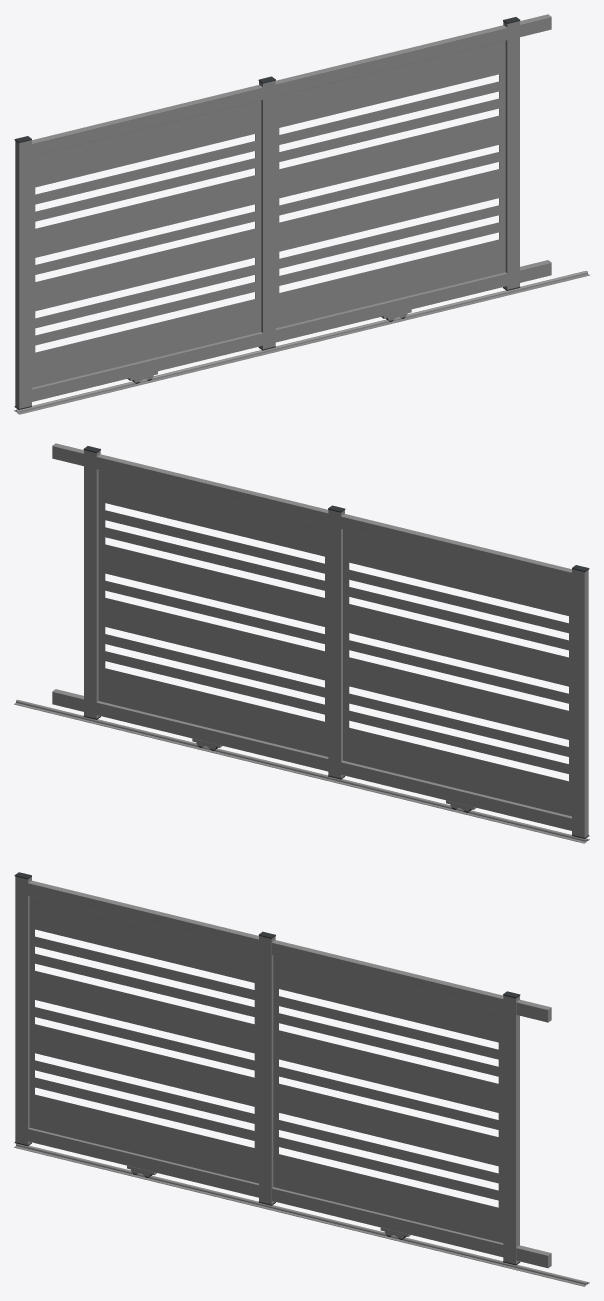
The picture shows the model from 3 angles, top to bottom: view 1: azimuth 30°, elevation 25°; view 2: azimuth 150°, elevation 25°; view 3: azimuth 330°, elevation 25°; orthographic projection.
Parts seen in each view (by area): view 1: barres horizontales001, barres horizontales, Rectangle060, Rectangle061, Pilar, Pilar004, Pilar001, Rail; view 2: barres horizontales001, barres horizontales, Rectangle060, Rectangle061, Pilar, Pilar004, Pilar001, Rail; view 3: barres horizontales001, barres horizontales, Rectangle060, Rectangle061, Pilar001, Pilar, Pilar004, Rail.
Boxes of the visible parts, box(x1,y1,x2,y2) form: barres horizontales001: box(275, 41, 505, 328); barres horizontales: box(32, 100, 261, 387); Rectangle060: box(32, 14, 551, 156); Rectangle061: box(32, 260, 551, 401); Pilar: box(15, 140, 31, 408); Pilar004: box(259, 80, 275, 349); Pilar001: box(503, 21, 519, 289); Rail: box(14, 271, 589, 414); barres horizontales001: box(98, 470, 328, 756); barres horizontales: box(343, 529, 571, 816); Rectangle060: box(52, 443, 571, 585); Rectangle061: box(52, 689, 571, 830); Pilar: box(572, 569, 588, 837); Pilar004: box(328, 509, 344, 778); Pilar001: box(84, 450, 100, 718); Rail: box(14, 699, 589, 843); barres horizontales001: box(273, 955, 503, 1242); barres horizontales: box(29, 896, 258, 1183); Rectangle060: box(28, 880, 551, 1022); Rectangle061: box(28, 1127, 551, 1268); Pilar001: box(503, 995, 519, 1264); Pilar: box(15, 876, 31, 1144); Pilar004: box(259, 936, 275, 1204); Rail: box(14, 1143, 589, 1286).
Size of the model in its own units: 3600 by 1640 by 60.02.
Materials: 5 (2 with a texture image).
